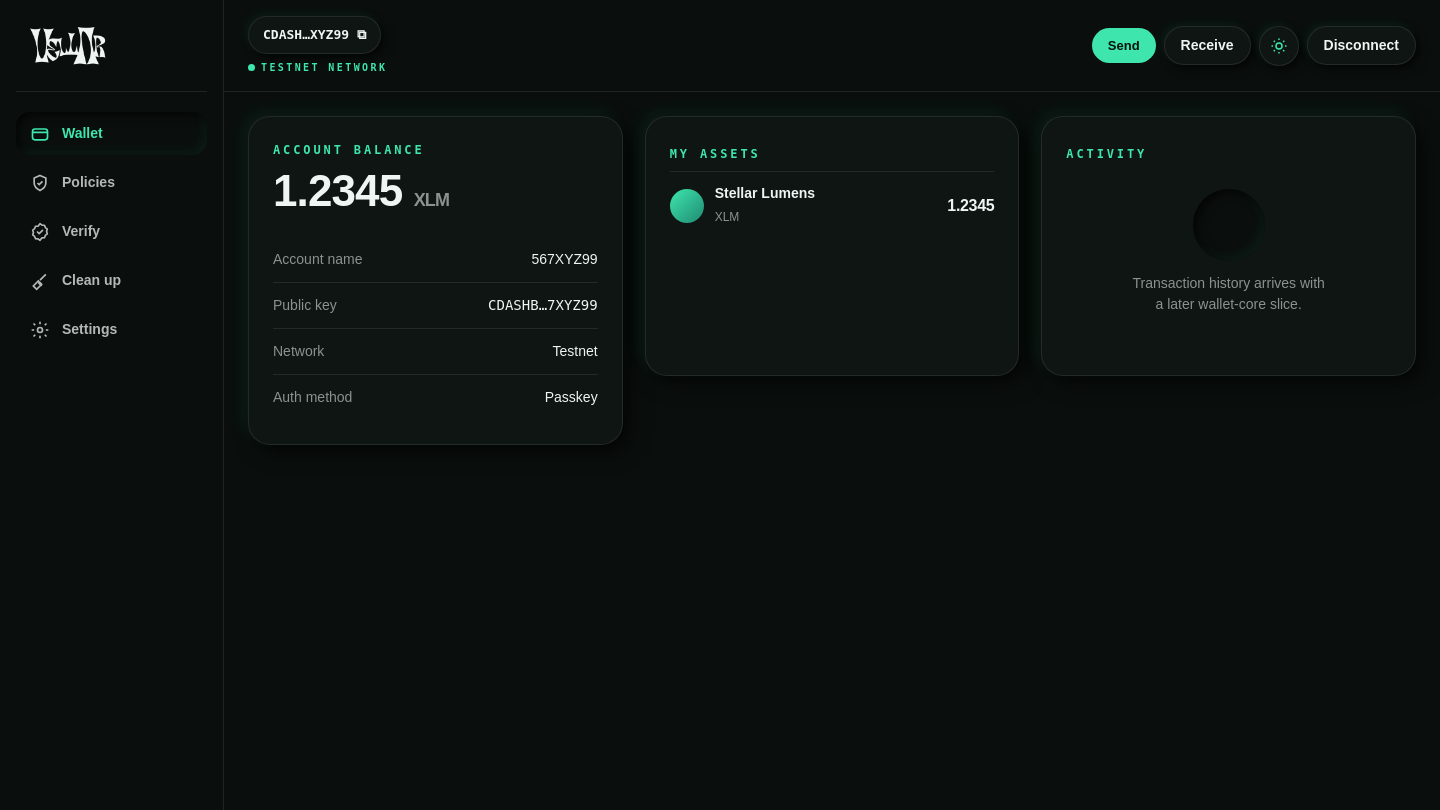
Test: Dashboard › opens the receive panel with the full address
The image size is (1440, 810).
Step 1. Click the button "Receive" → {"x": 1207, "y": 46}, box [1164,26,1250,65]
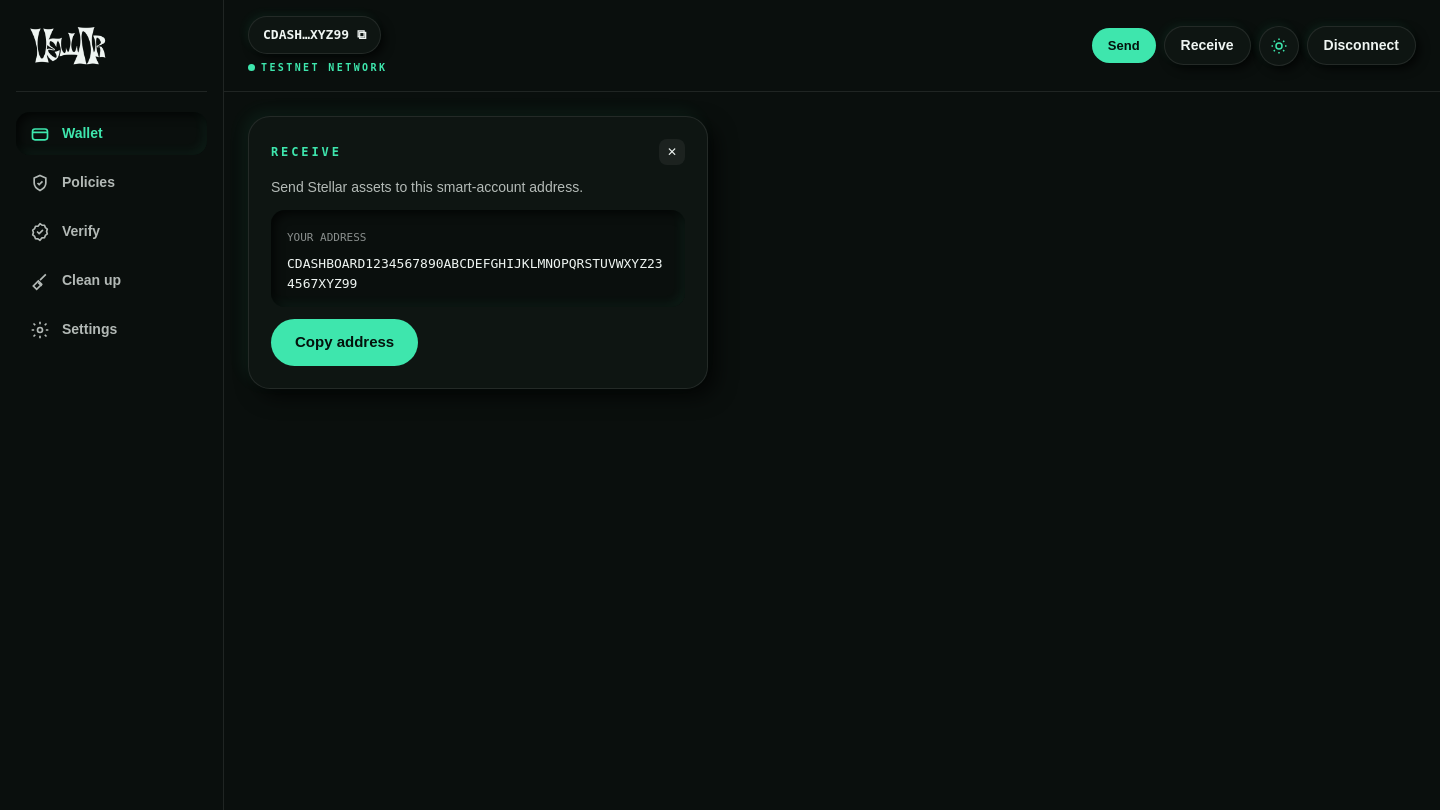
Expected: the text "CDASHBOARD1234567890ABCDEFGHIJKLMNOPQRSTUVWXYZ234567XYZ99" is shown, [287,254,669,293]
Expected: the button "Copy address" is shown, [271,319,418,366]
